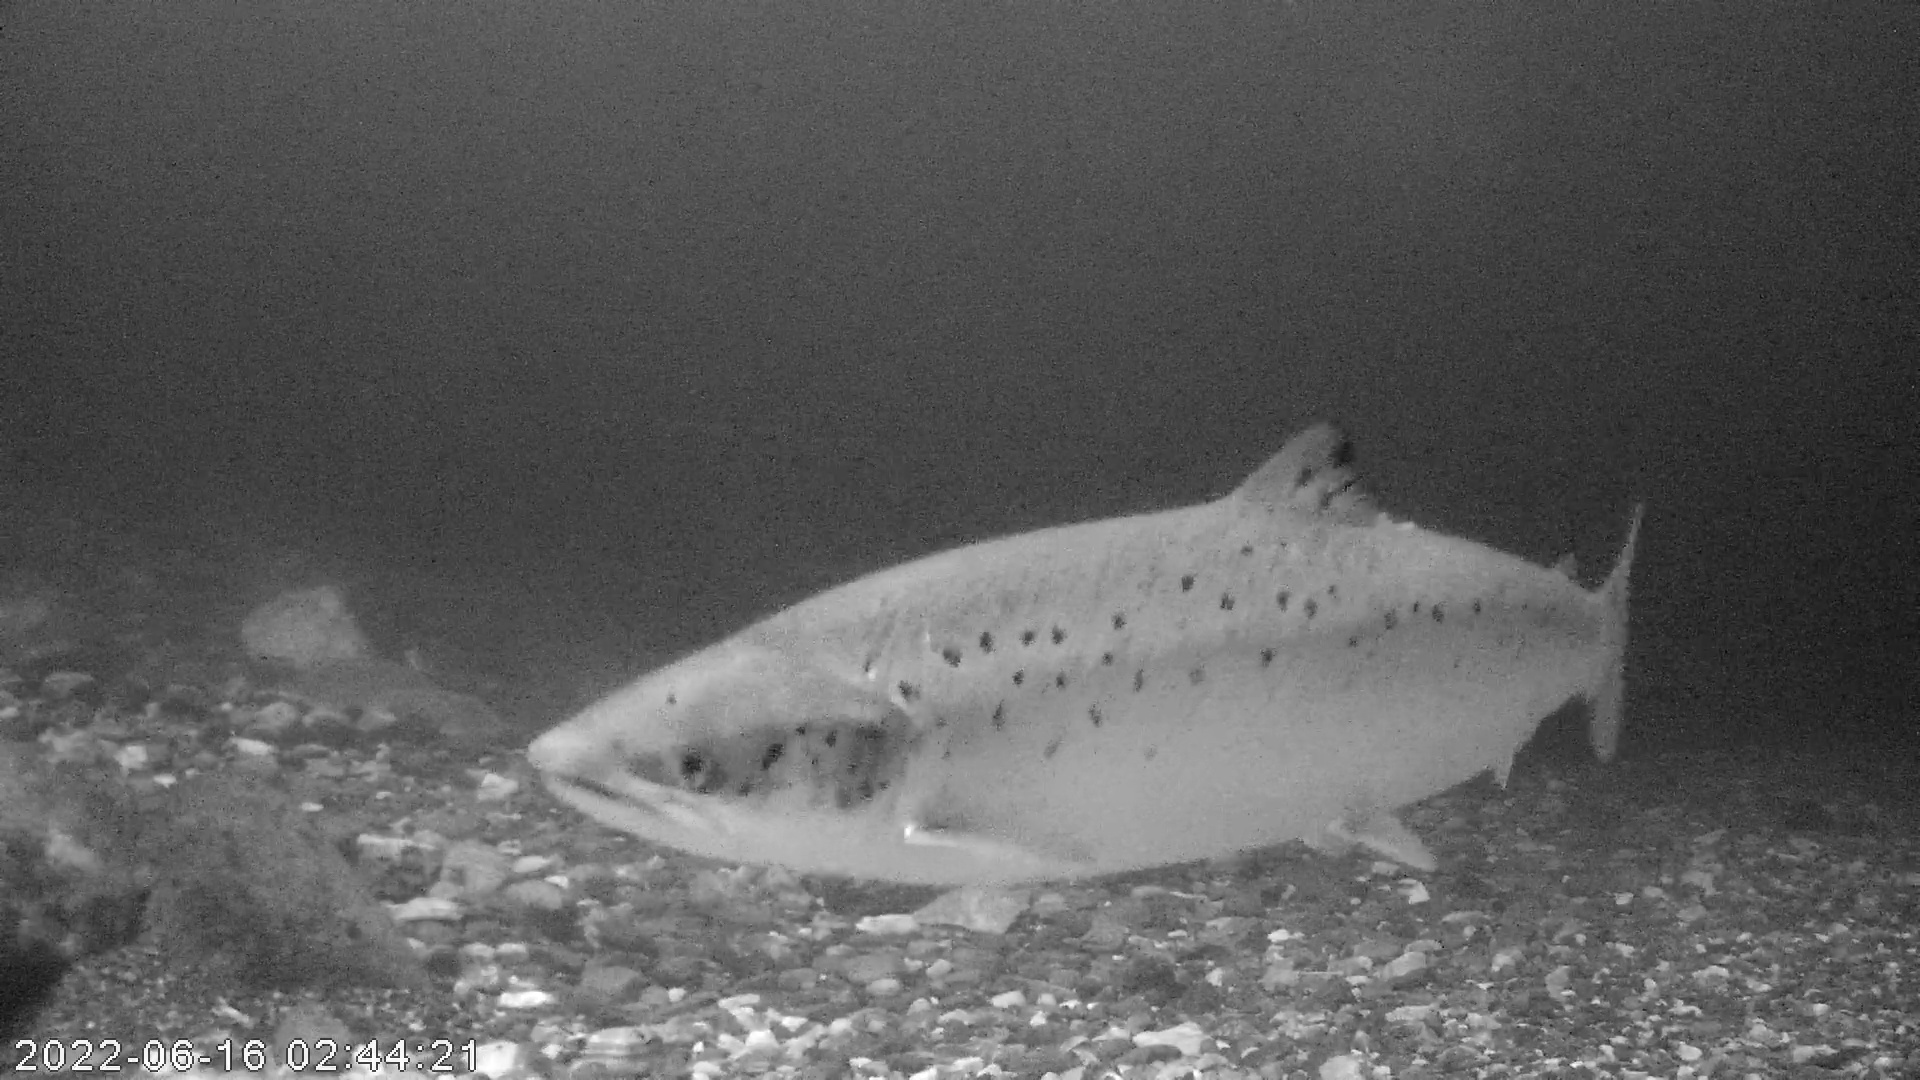salmon: (525, 417, 1643, 891)
